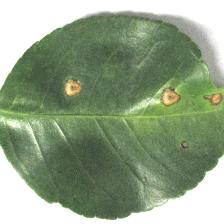canker: (55, 54, 223, 160)
